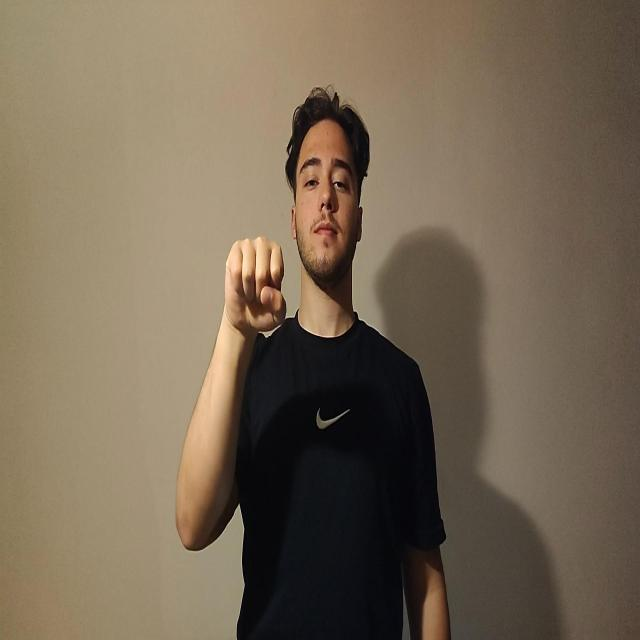yes: (223, 235, 287, 336)
